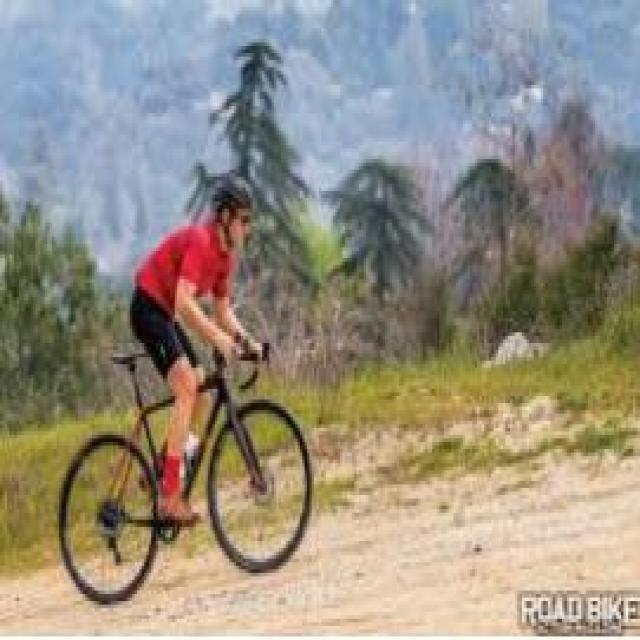bicycle: (60, 337, 315, 602)
